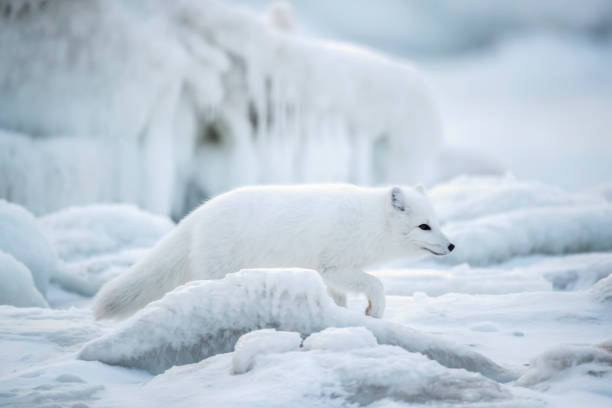arcticfox: (396, 198, 453, 263)
